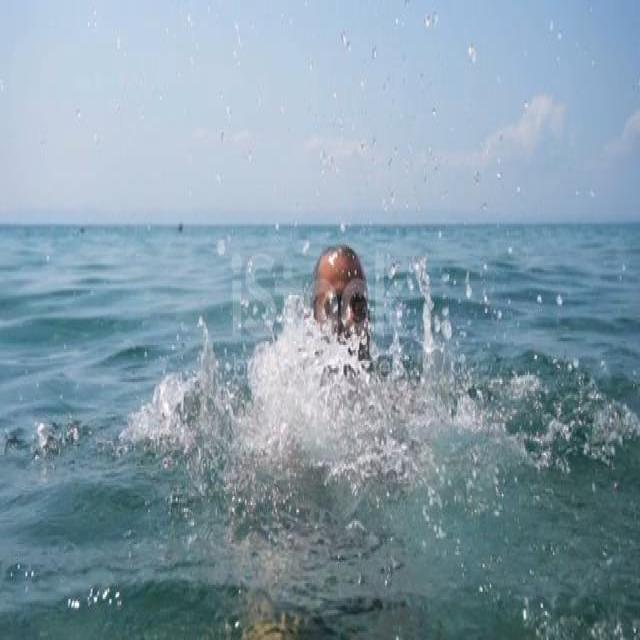Out of Water: (287, 244, 407, 454)
